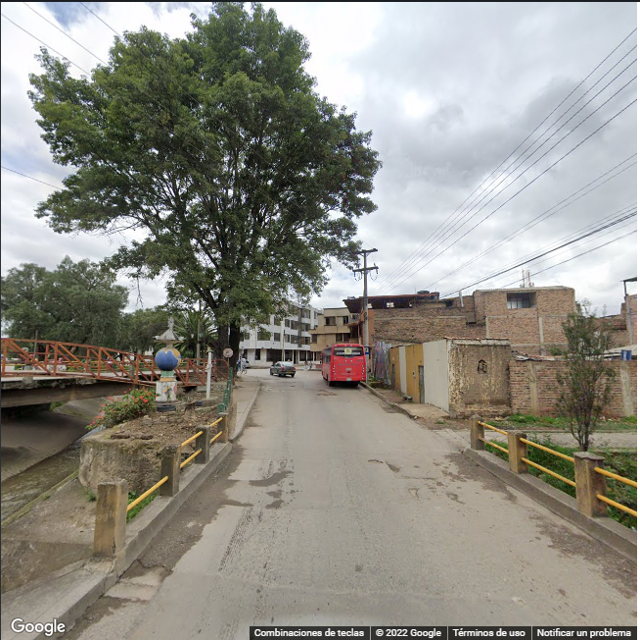D00: (340, 462, 374, 540)
D10: (130, 556, 174, 576)
D40: (403, 483, 426, 501)
